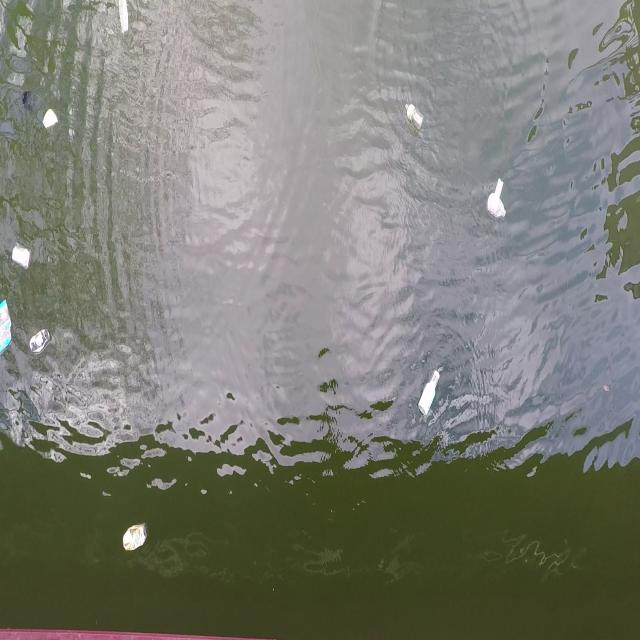Autre plastique: (0, 298, 16, 362)
Bouteille plastique: (415, 362, 442, 419), (402, 98, 428, 135), (487, 191, 509, 224)
Non plastique: (123, 516, 150, 557), (5, 239, 32, 280), (30, 325, 54, 362)
